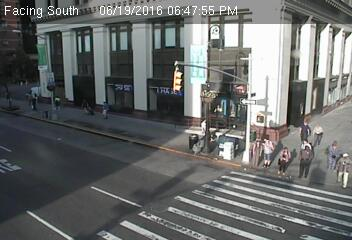neg: (252, 2, 292, 54), (125, 43, 152, 80), (73, 19, 98, 54), (317, 24, 340, 54), (38, 30, 59, 59), (186, 39, 206, 66), (216, 111, 234, 136), (296, 65, 313, 87), (257, 98, 270, 117)
pos: (293, 145, 320, 181), (318, 136, 343, 169), (273, 144, 297, 176), (240, 137, 263, 167), (256, 137, 278, 167), (308, 121, 328, 148), (97, 100, 113, 121), (77, 95, 91, 115)
